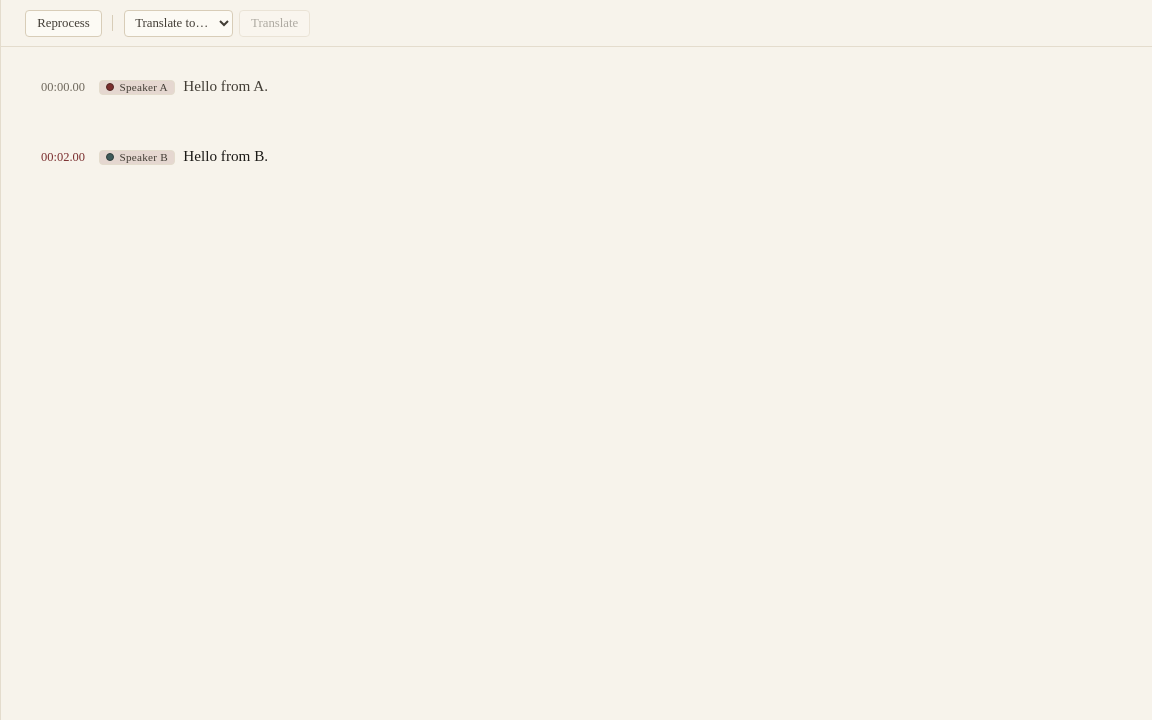
Test case: SpeakerChip rename (issue #0001) › opens an inline input when the chip is clicked
The width and height of the screenshot is (1152, 720).
Click the button "Speaker A" at (137, 87), box 99,80 -> 175,95
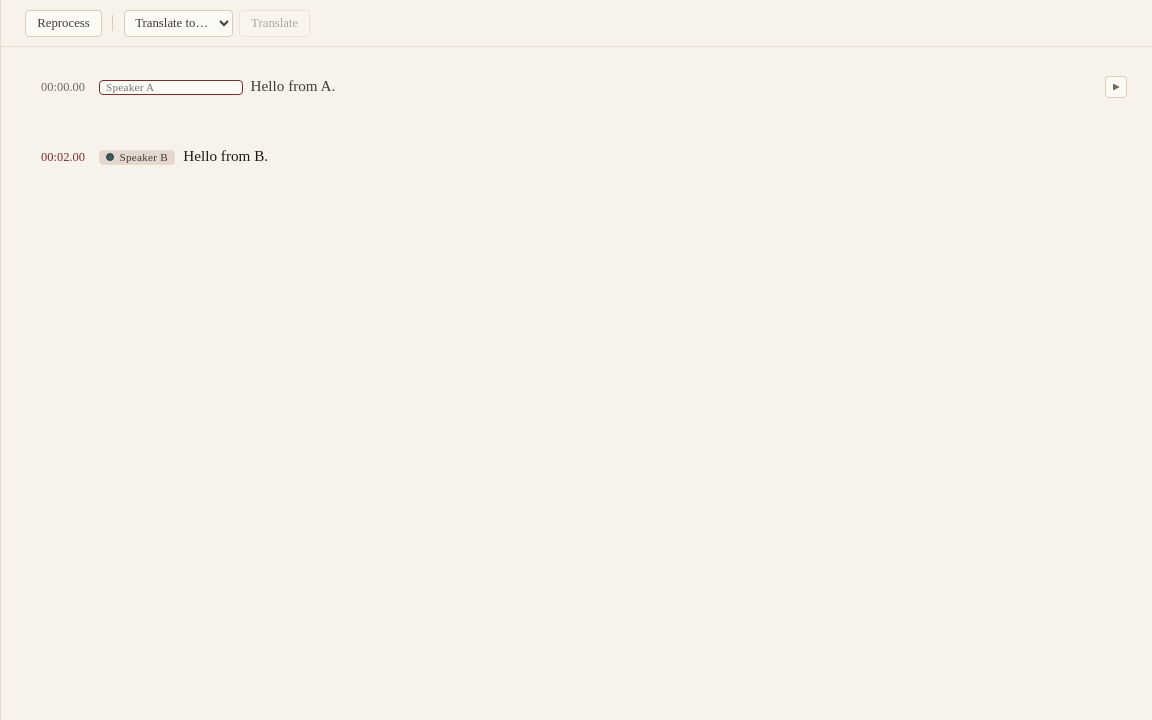
Expected: the field is shown, 99,80 -> 243,95
